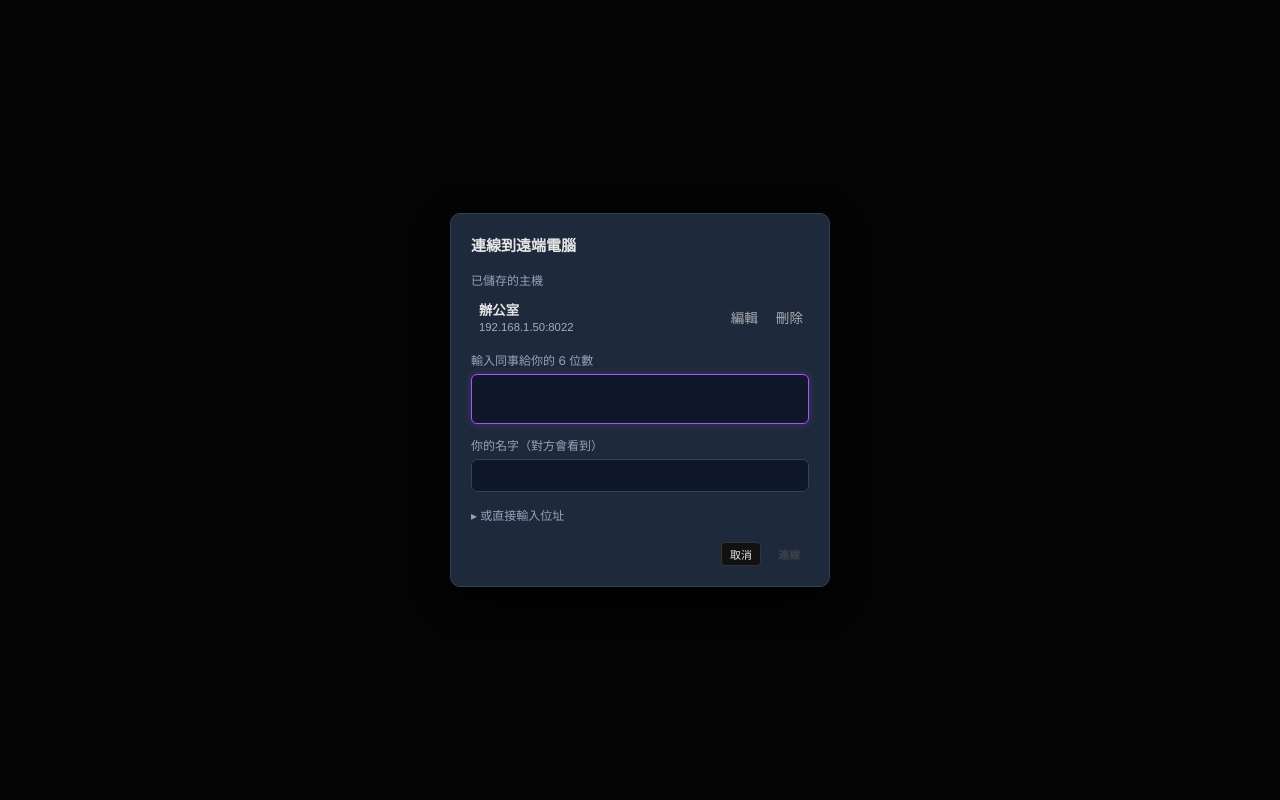
Test: ConnectDialog 地址簿 › keychain 讀不到時不叫使用者重貼金鑰
Click the text "辦公室" at (499, 310), box 479,300 -> 519,319
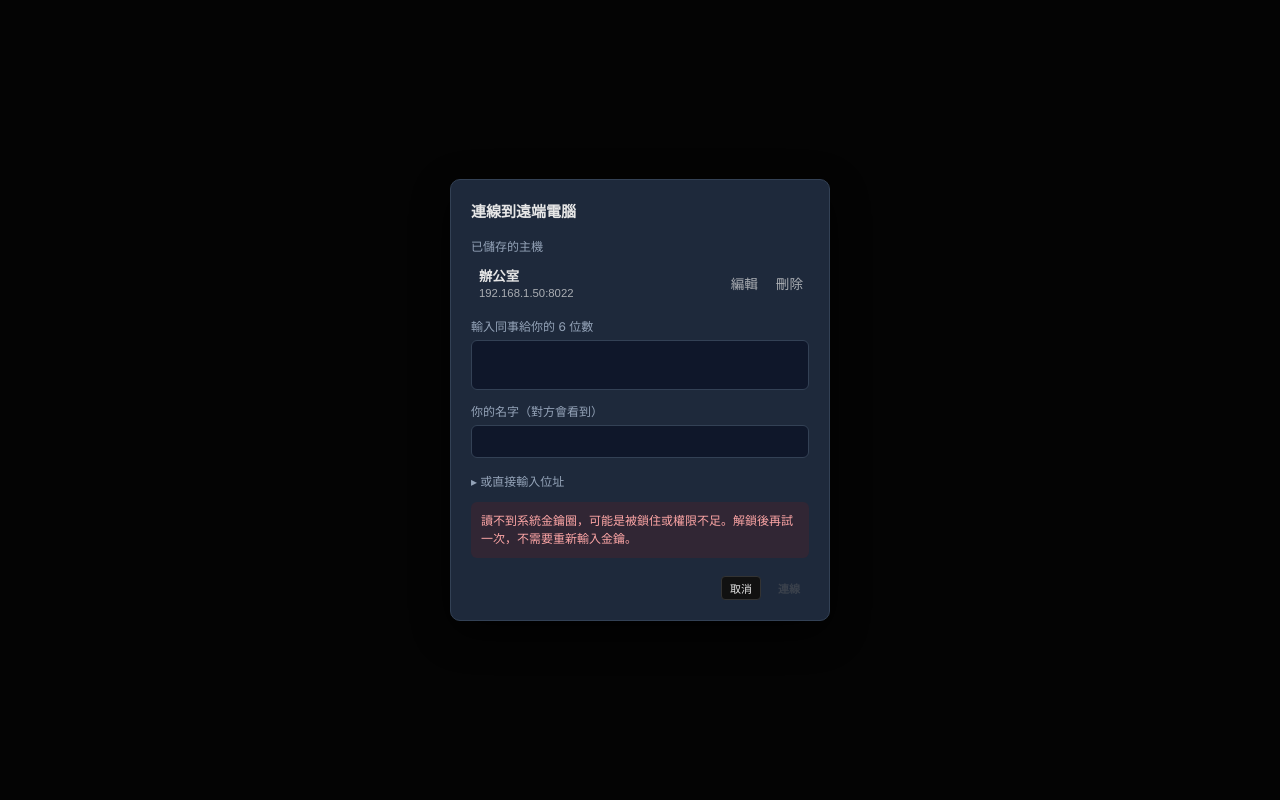
Now the text "讀不到系統金鑰圈，可能是被鎖住或權限不足。解鎖後再試一次，不需要重新輸入金鑰。" is shown, box 471,502 -> 809,558
